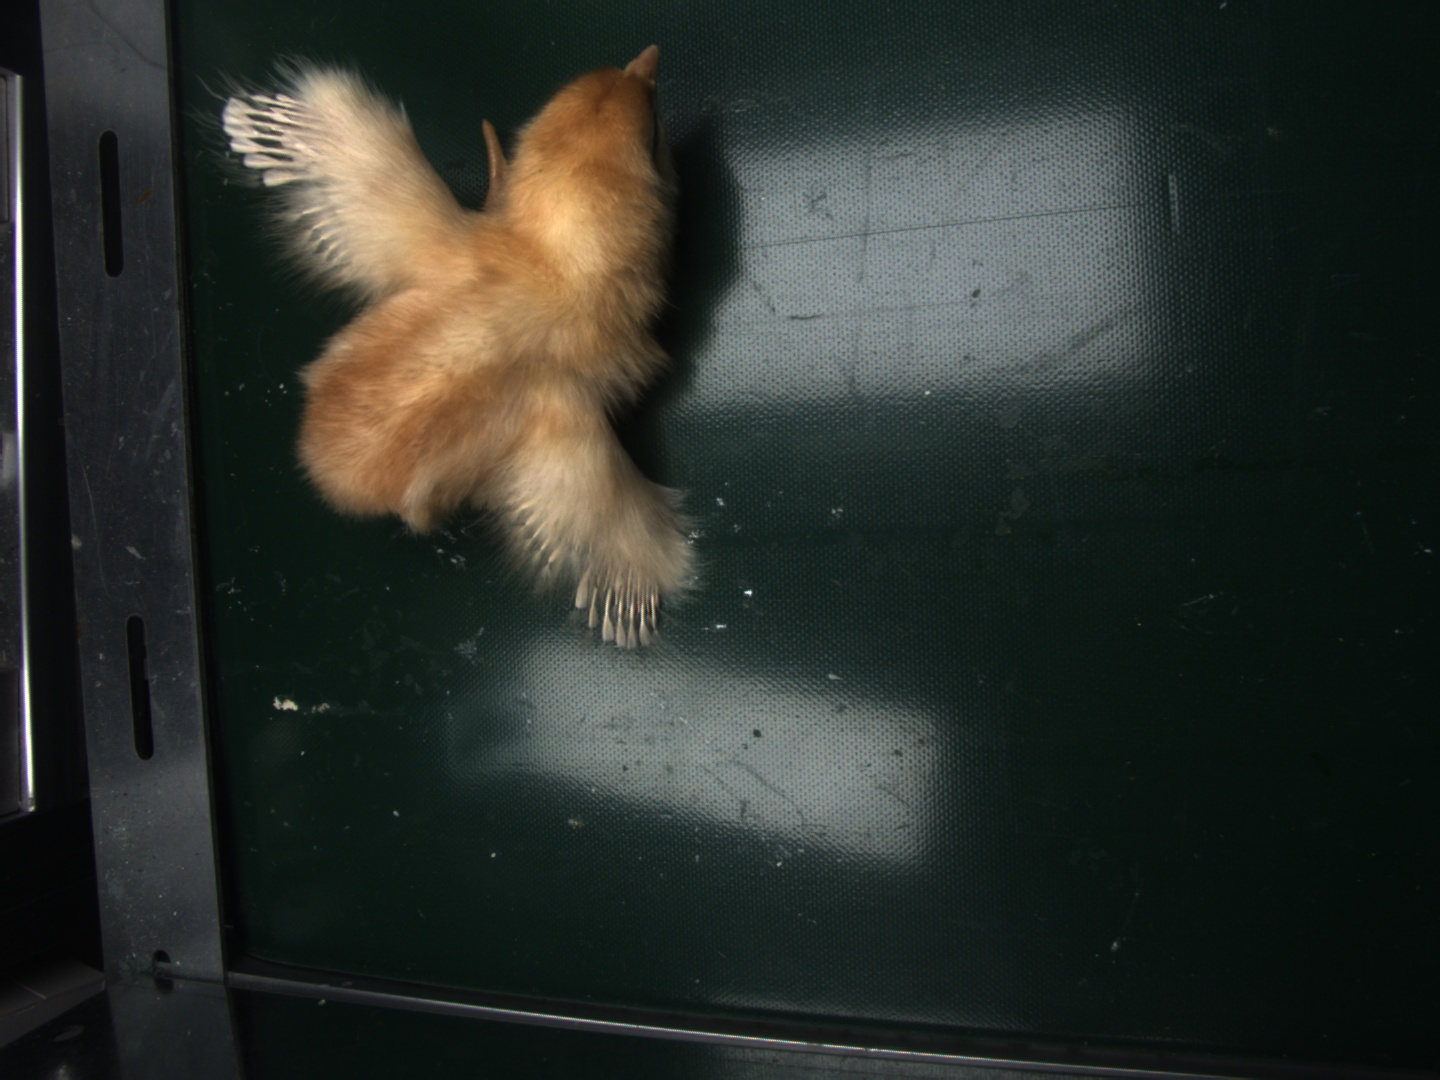female: (223, 95, 315, 185), (582, 565, 664, 653)
